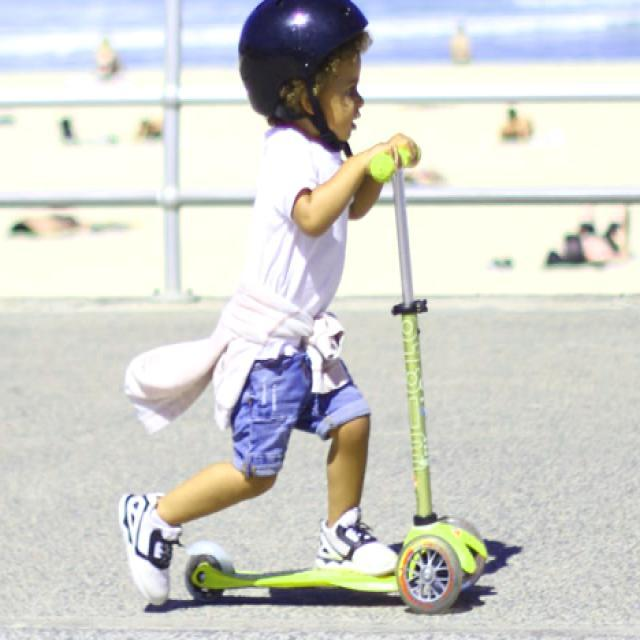Helmet: (234, 0, 376, 157)
